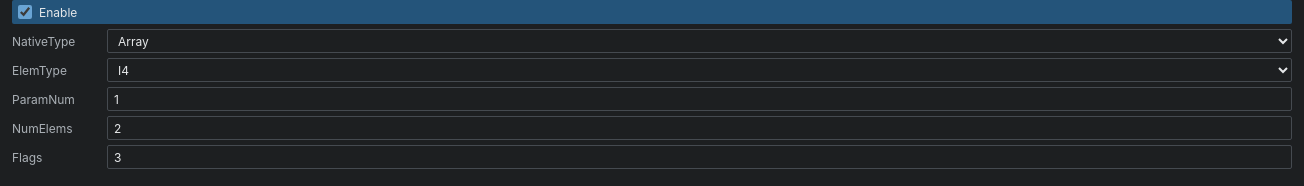
Test: MarshalTypeEditor › takes the element count and the flags with an emptied parameter number
Clear the field named "ParamNum" at (700, 99), box [107,87,1292,111]
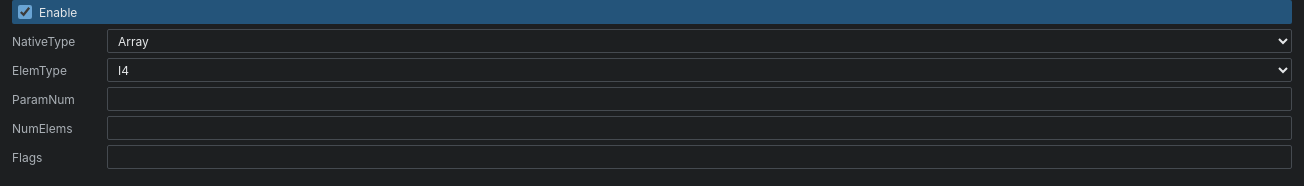
expect the field named "NumElems" is disabled: met, box [107,116,1292,140]
expect the field named "NumElems" is empty: met, box [107,116,1292,140]
